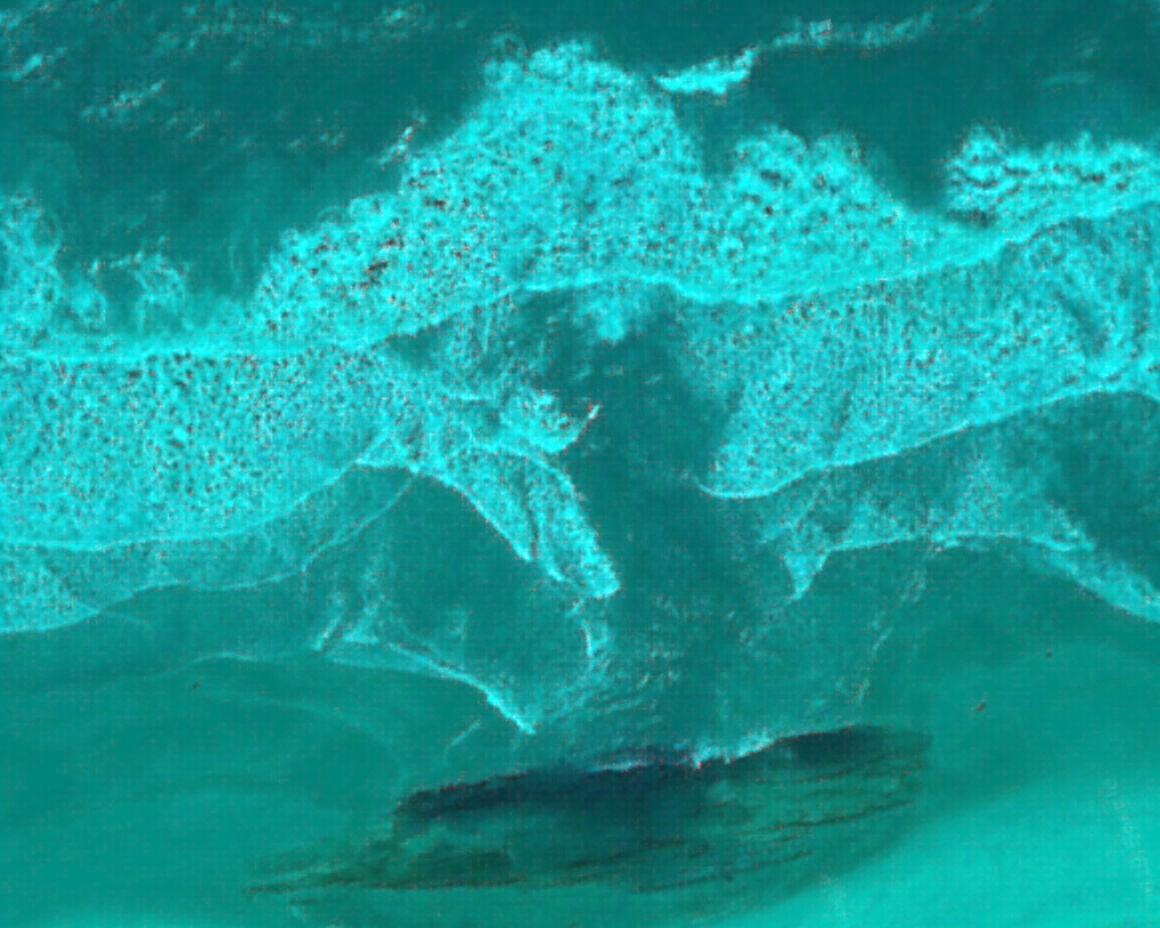rip_current: (417, 159, 796, 726)
